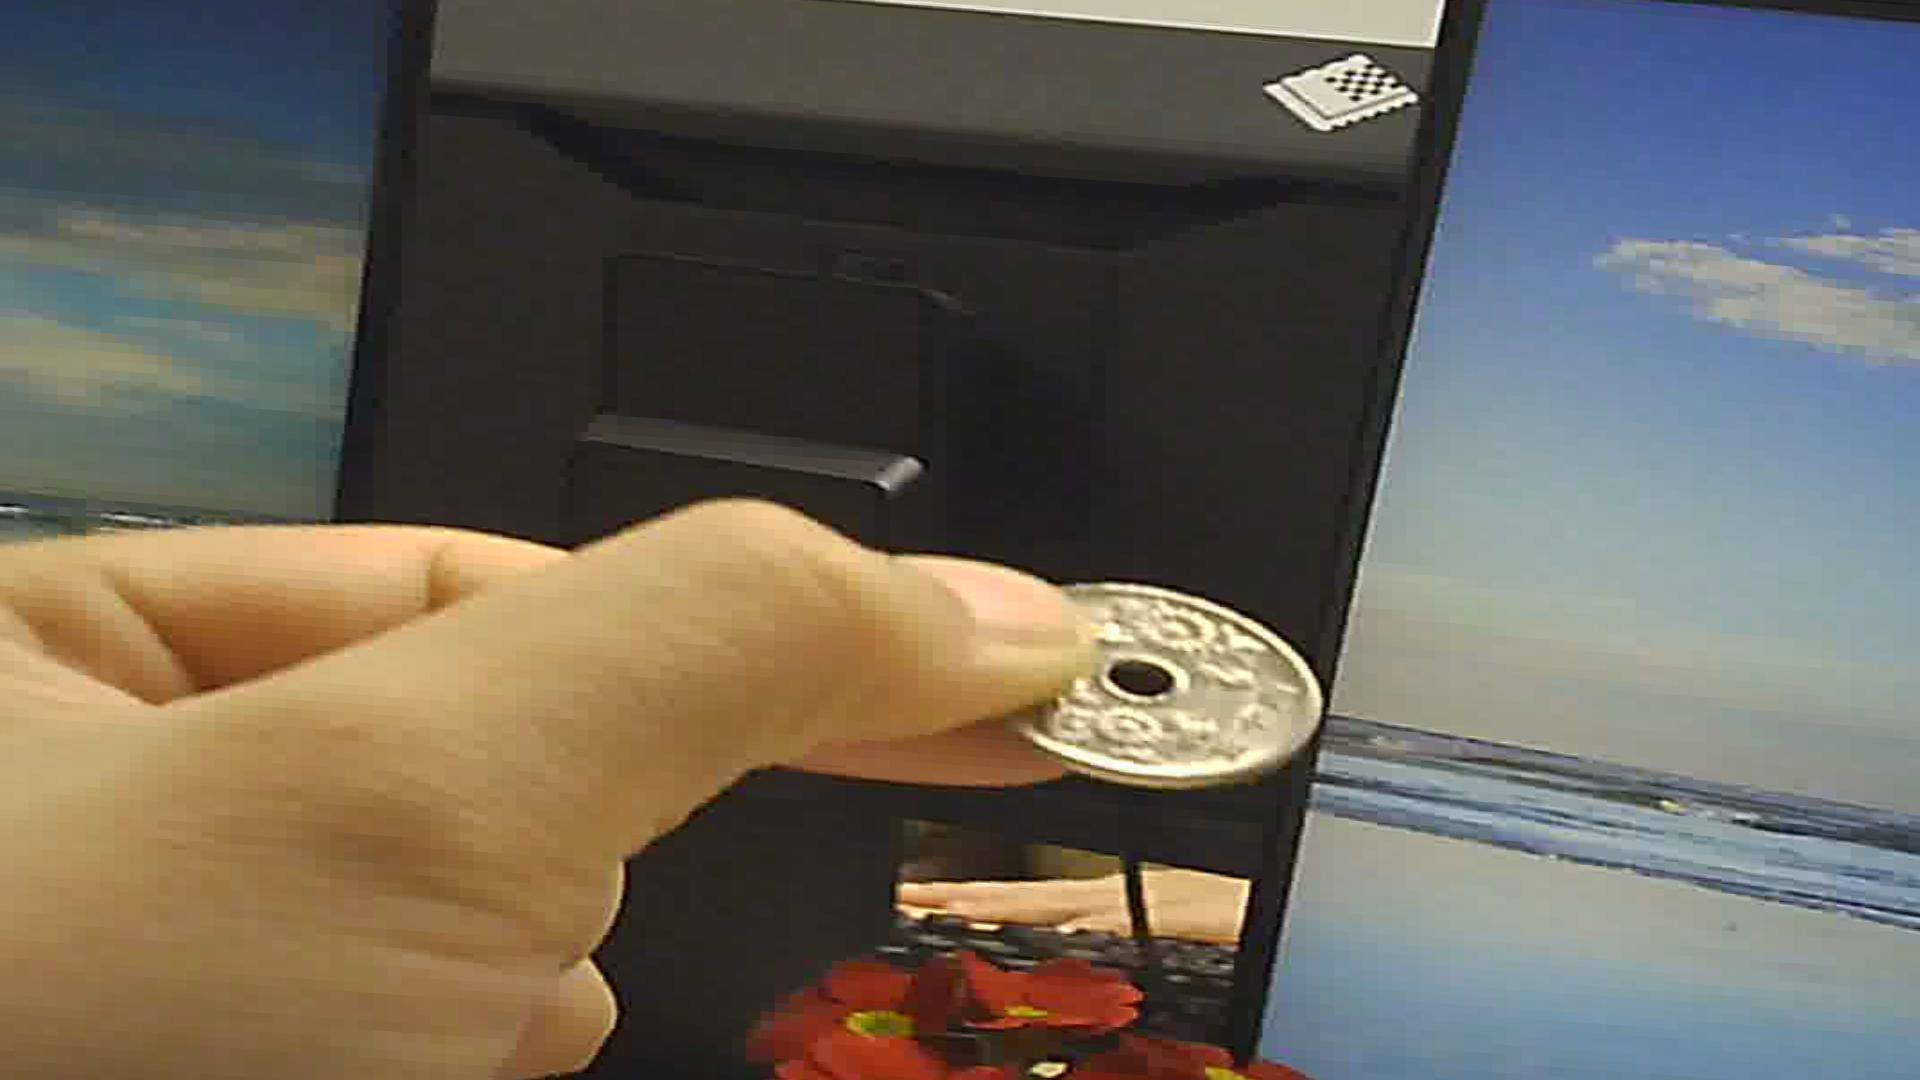50 Yen: (988, 570, 1324, 789)
